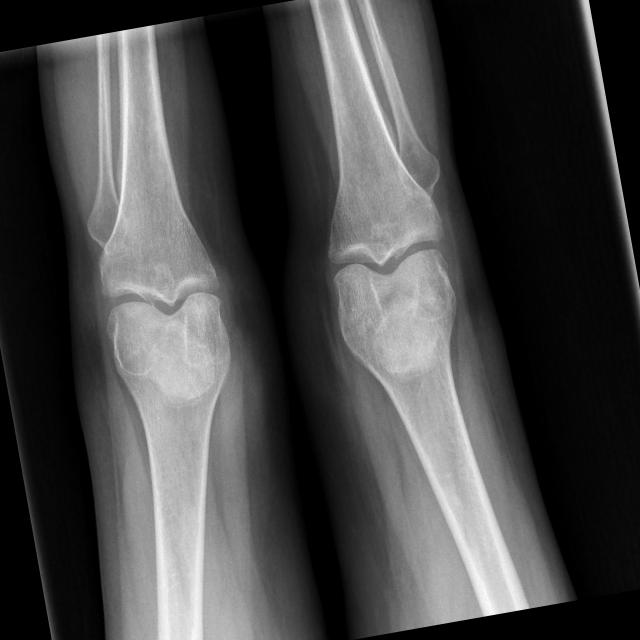Knee: (92, 230, 235, 371), (321, 198, 464, 332)
